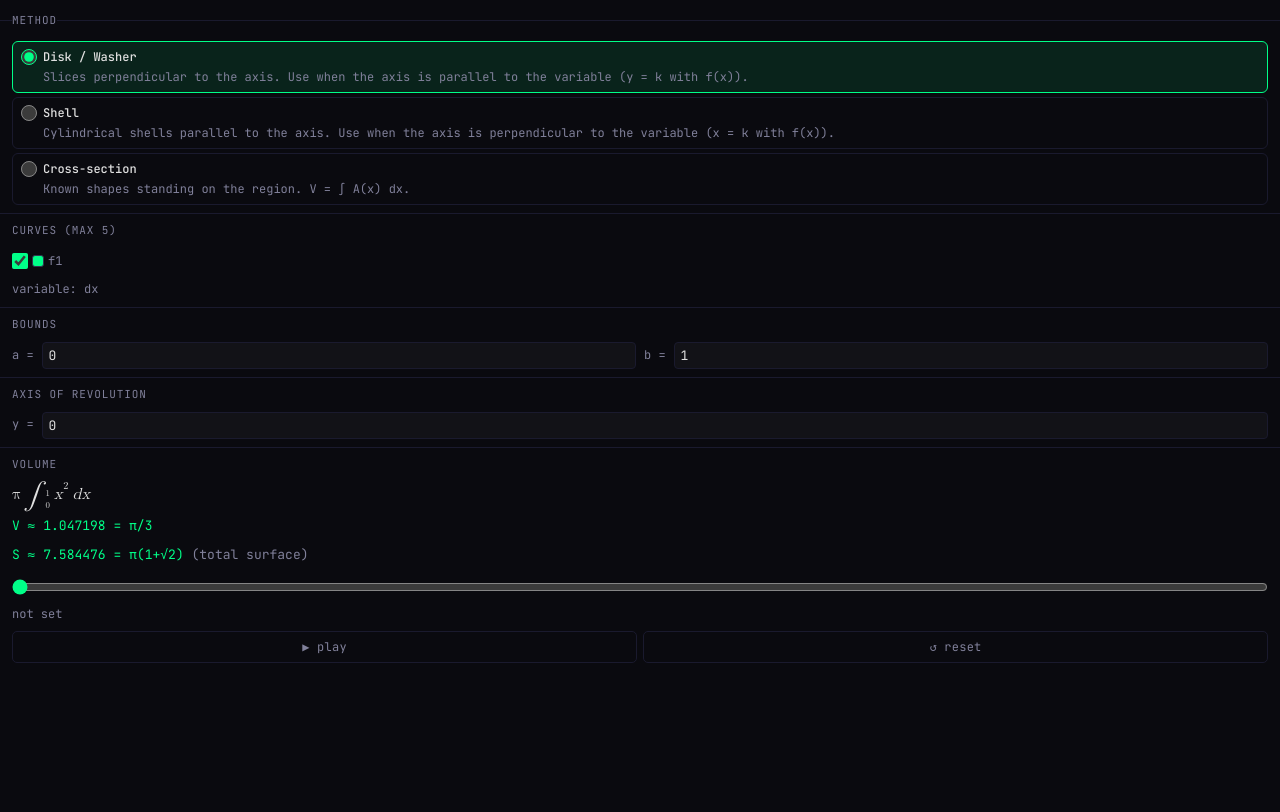
SolidPanelComponent › validates live while typing (input event), not only on blur (change event)
This screenshot has width=1280, height=812.
Replace the text in the field named "Lower bound a" with "not-a-number": (339, 355) [42,342,636,369]
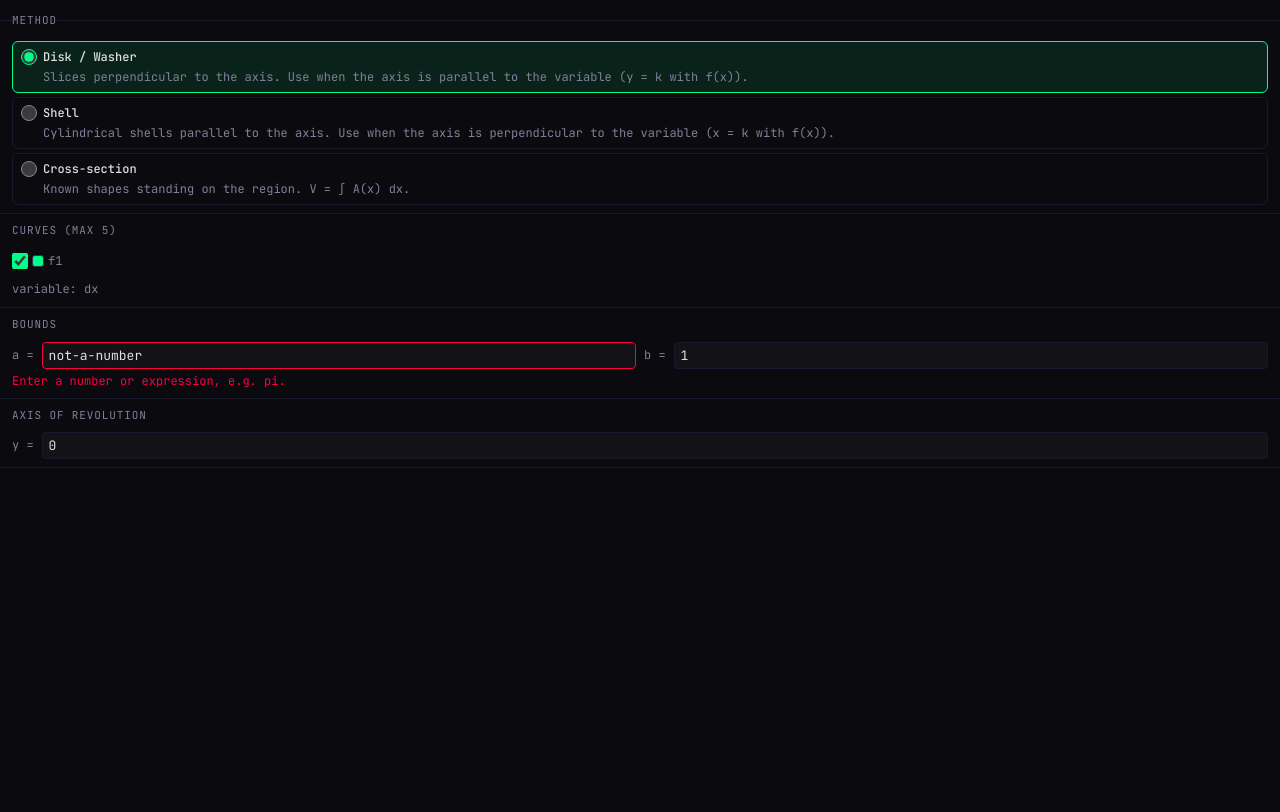
expect the text "Enter a number or expression" is shown: met, box [12,373,286,389]
